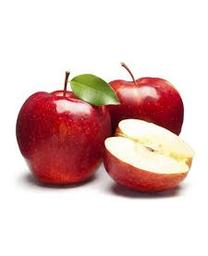apple: (16, 71, 111, 186), (103, 120, 194, 192), (106, 63, 184, 138)
